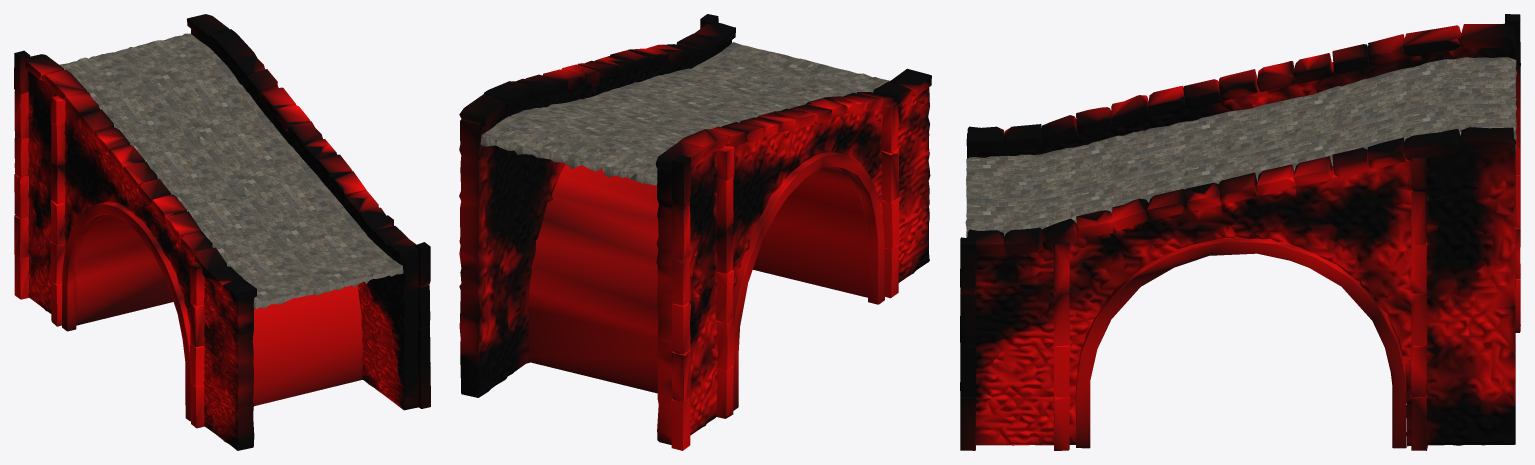
The model's file is SM_Bridge_Connect_01.fbx.
3 views of the same model, side by side, from view 1: azimuth 30°, elevation 25°; view 2: azimuth 150°, elevation 25°; view 3: azimuth 270°, elevation 25° (orthographic). The views are drawn at different scales.
Visible parts, largest first — view 1: SM_Bridge_Connect_01_LOD0; view 2: SM_Bridge_Connect_01_LOD0; view 3: SM_Bridge_Connect_01_LOD0.
Boxes of the visible parts, bbox=[...] form: SM_Bridge_Connect_01_LOD0: bbox=[14, 14, 430, 450]; SM_Bridge_Connect_01_LOD0: bbox=[459, 14, 931, 450]; SM_Bridge_Connect_01_LOD0: bbox=[960, 14, 1520, 450].
Size of the model in its own units: 1078 by 2045 by 1259.
